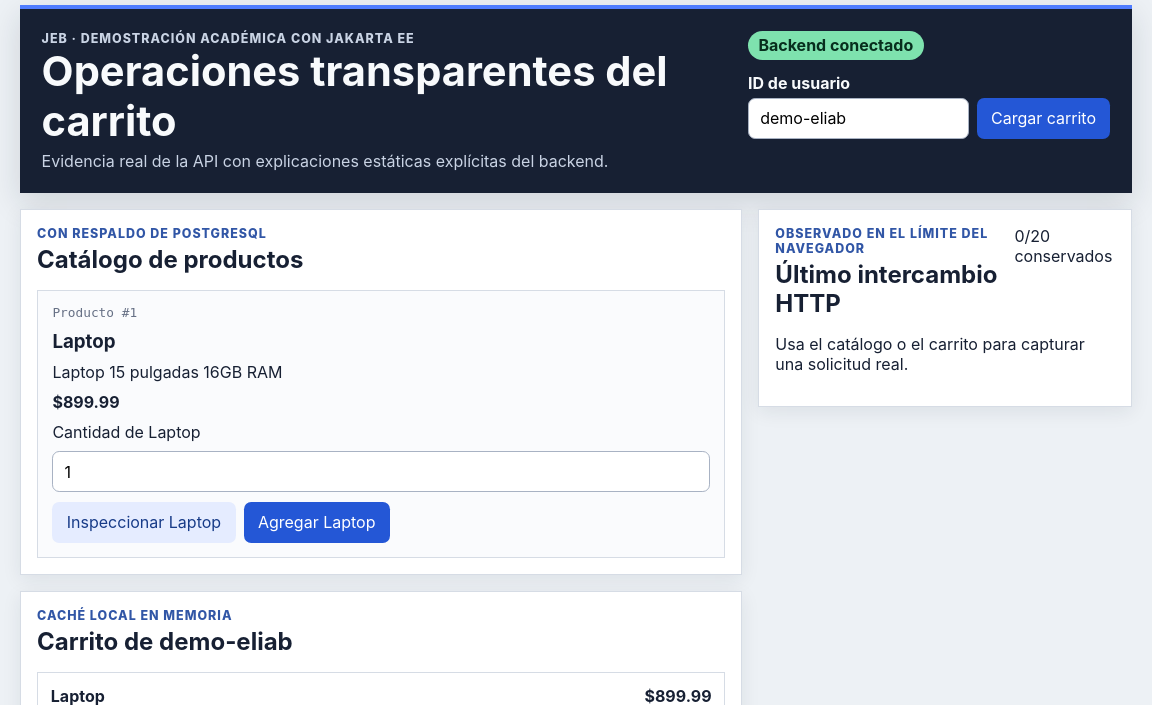
Test case: CartDemo › ignores a cart mutation response after the active user changes
The image size is (1152, 705).
Step 1. Click the button "Agregar Laptop" → x=317, y=522, box [244, 502, 390, 543]
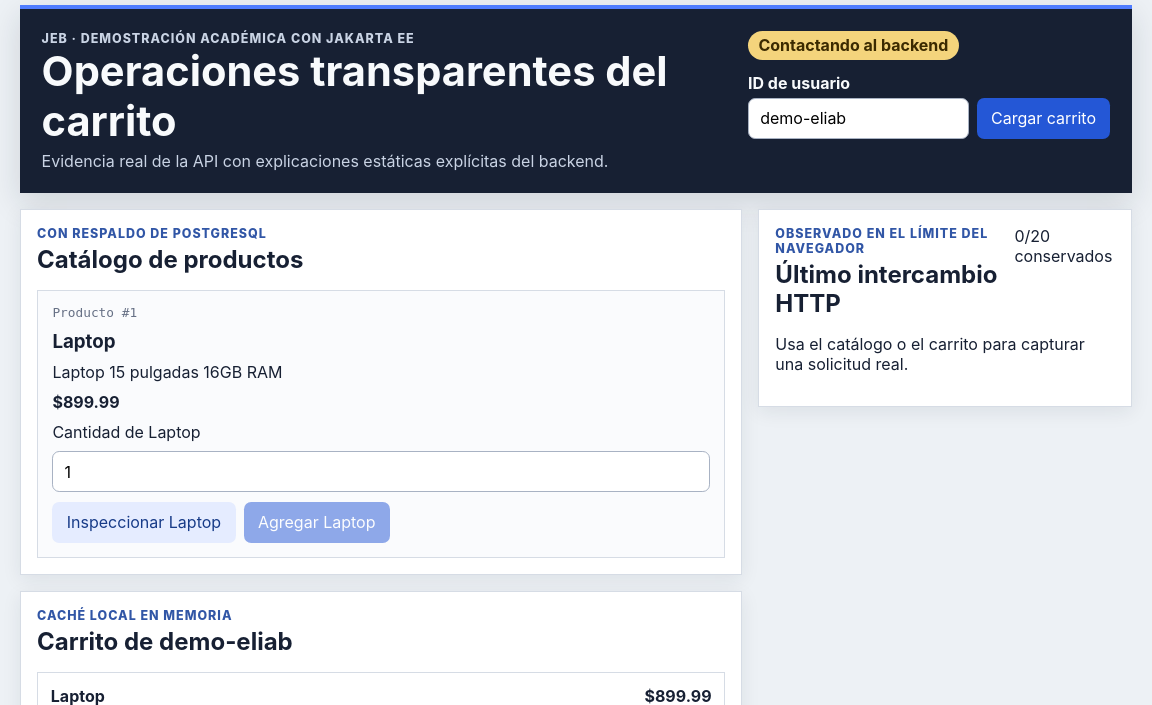
Step 2. Replace the text in the field labelled "ID de usuario" with "second-user" → x=858, y=118, box [748, 98, 969, 139]
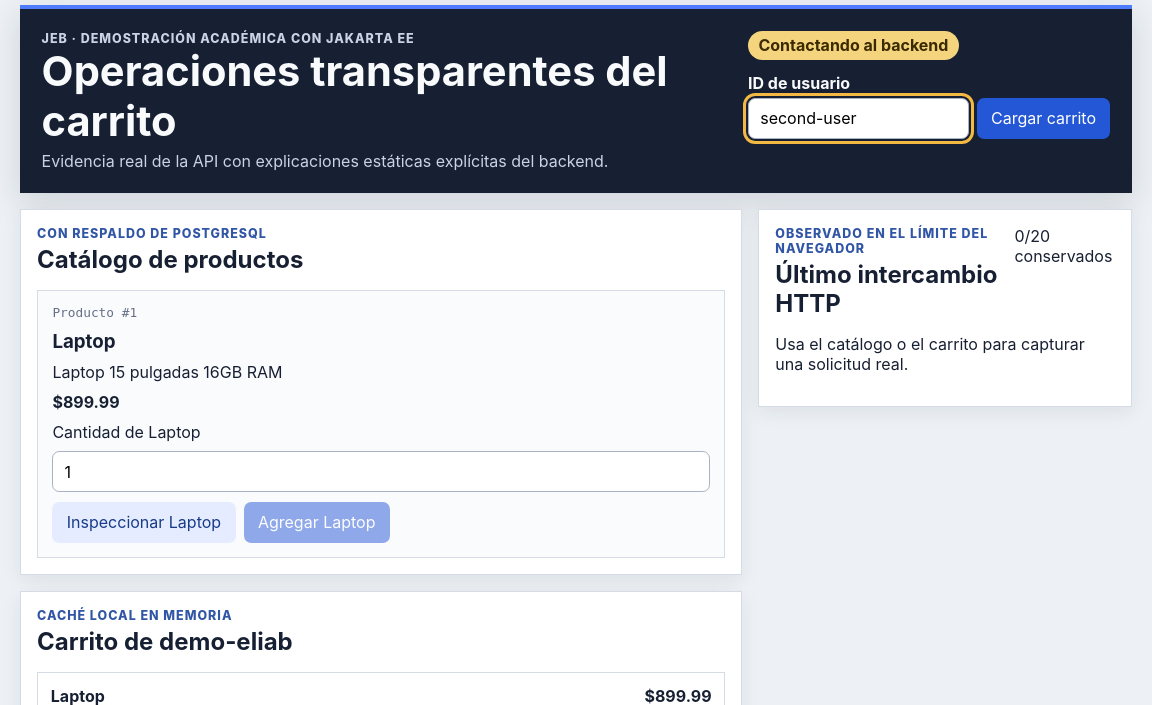
Step 3. Click the button "Cargar carrito" → x=1044, y=118, box [977, 98, 1110, 139]
(page scrolled)
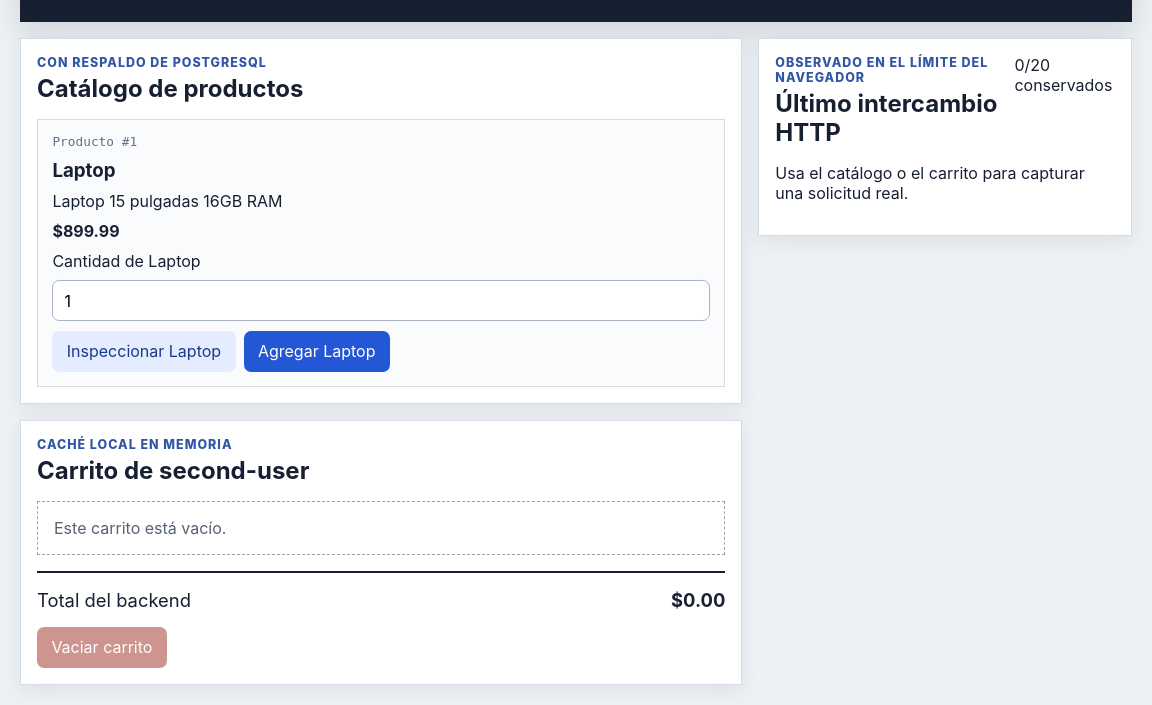
Expected: the heading "Carrito de second-user" is shown, [37, 456, 309, 485]
Expected: the text "Este carrito está vacío." is shown, [37, 501, 725, 555]
